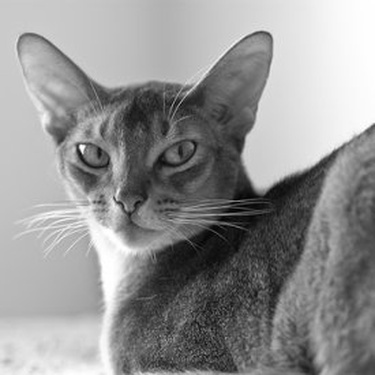cat: (1, 24, 365, 354)
